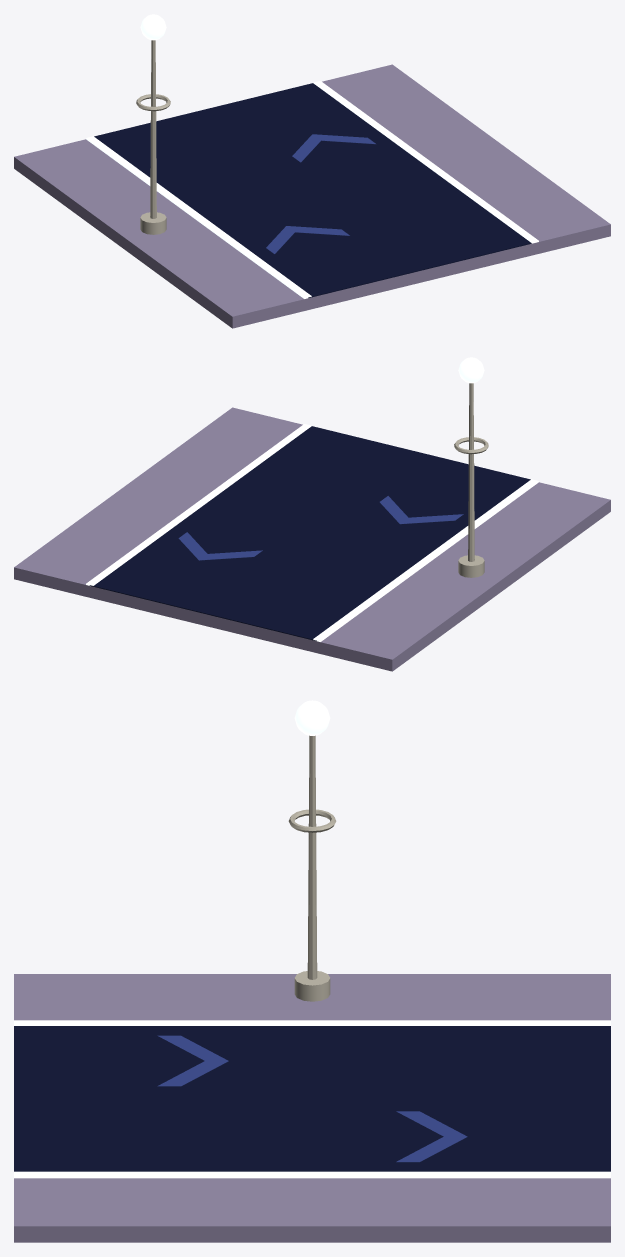
The model's file is lane_straight.glb.
The picture shows the model from 3 angles, top to bottom: view 1: azimuth 30°, elevation 25°; view 2: azimuth 150°, elevation 25°; view 3: azimuth 270°, elevation 25°; orthographic projection. The views are drawn at different scales.
Parts seen in each view (by area): view 1: lane_straight; view 2: lane_straight; view 3: lane_straight.
Part boxes in pixels (<box>): lane_straight: <box>14,14,610,328</box>; lane_straight: <box>14,357,610,671</box>; lane_straight: <box>14,700,610,1242</box>.
Bounding box in the file's own units: 10 × 5.7 × 10.
